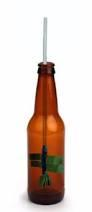Glass bottle: (18, 60, 77, 206)
